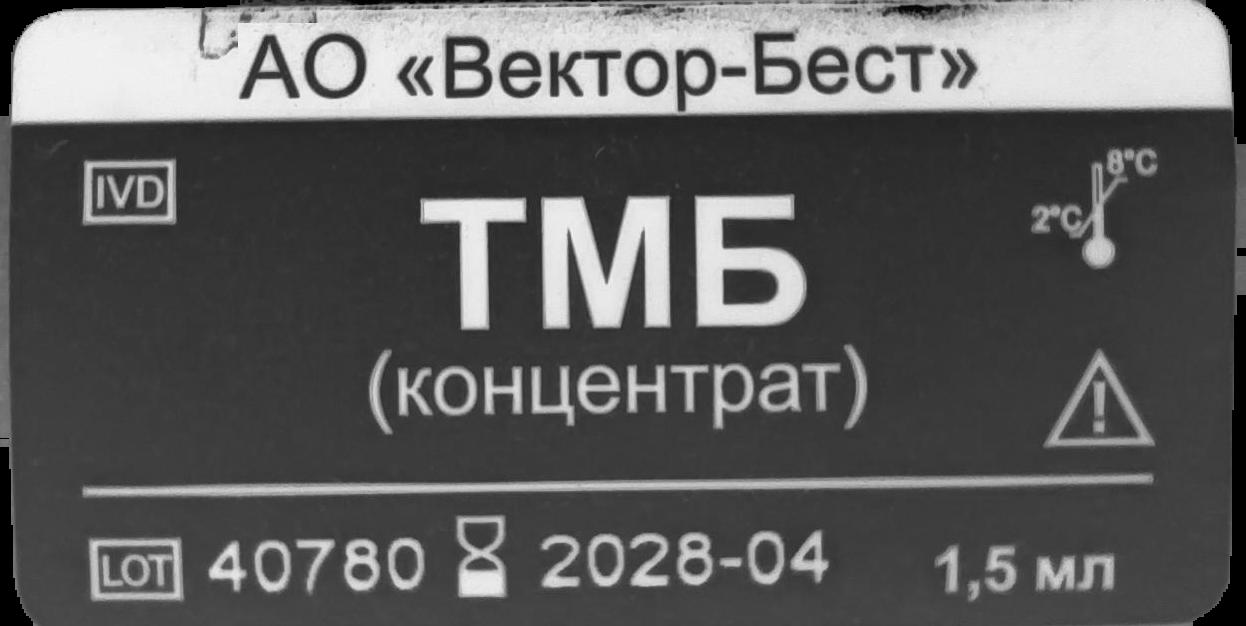something: (1025, 141, 1158, 271), (1041, 340, 1161, 448), (83, 536, 191, 605), (76, 159, 180, 228), (451, 512, 516, 602)
text: (355, 177, 871, 435), (232, 27, 983, 114), (541, 523, 831, 599), (205, 529, 423, 603), (927, 533, 1123, 608)
